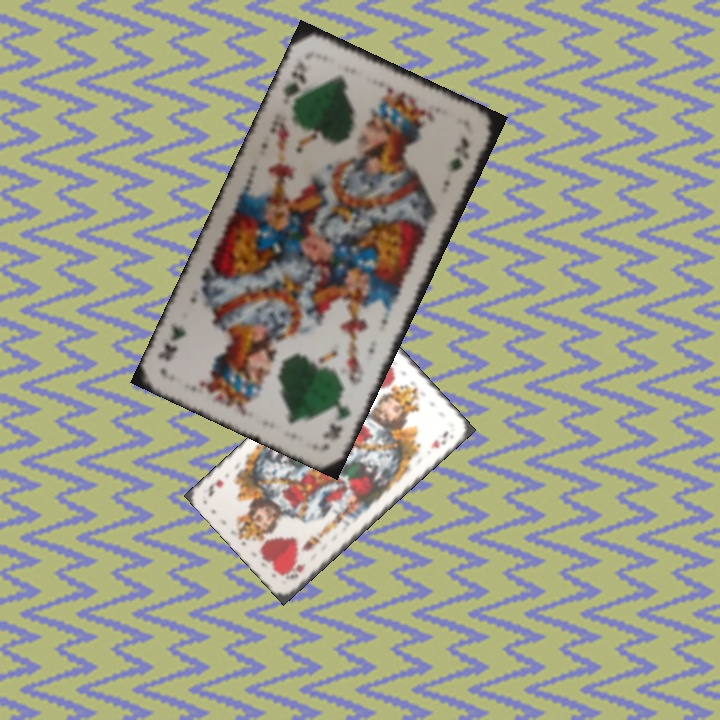GK: (318, 388, 353, 443), (278, 58, 310, 110)
HK: (281, 559, 308, 582)
